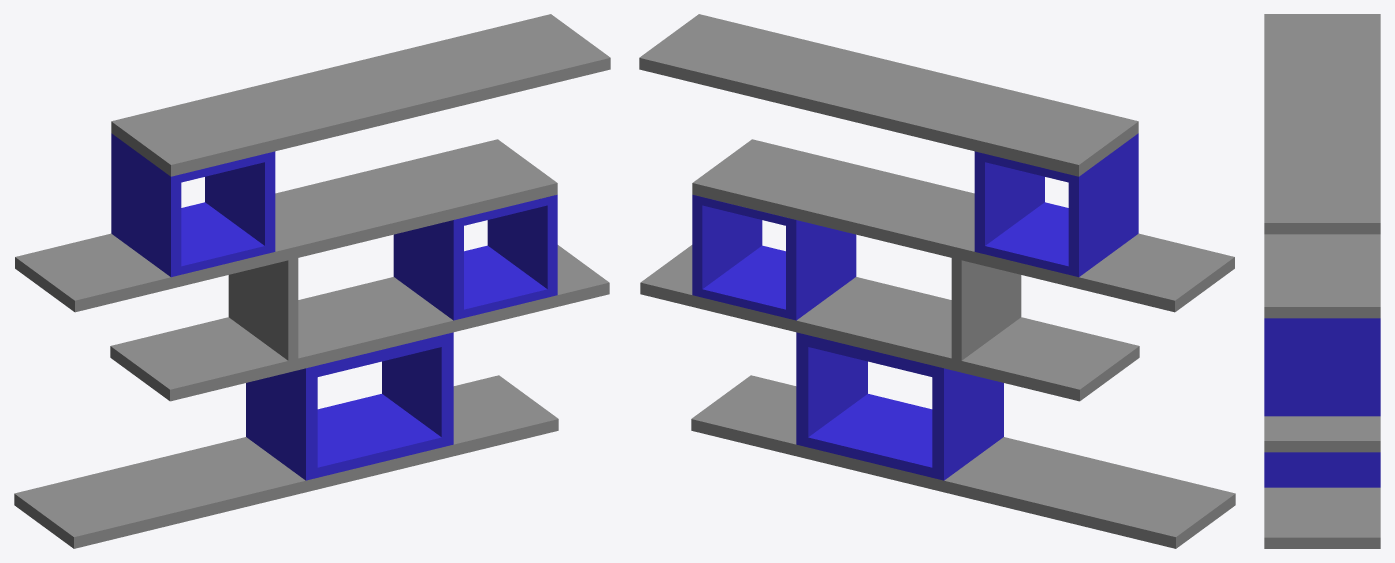
Rendered from Repiza2.FBX.
The picture shows the model from 3 angles, left to right: view 1: azimuth 30°, elevation 25°; view 2: azimuth 150°, elevation 25°; view 3: azimuth 270°, elevation 25°; orthographic projection. The views are drawn at different scales.
Parts seen in each view (by area): view 1: Repiza; view 2: Repiza; view 3: Repiza.
Boxes of the visible parts, bbox=[...] form: Repiza: bbox=[14, 14, 610, 548]; Repiza: bbox=[639, 14, 1235, 548]; Repiza: bbox=[1264, 14, 1380, 548].
Size of the model in its own units: 335 by 215 by 64.65.
